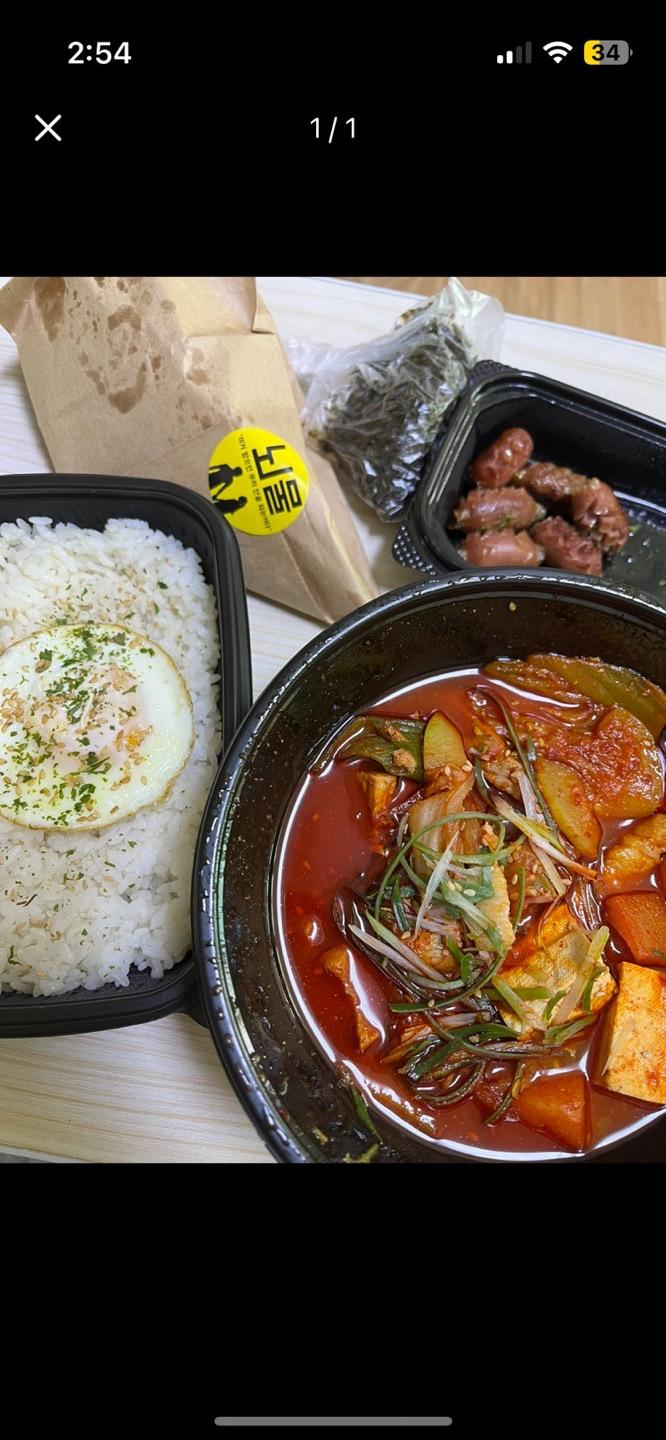Lunch Box: (193, 569, 665, 1162), (0, 475, 251, 1037), (393, 361, 665, 601)
